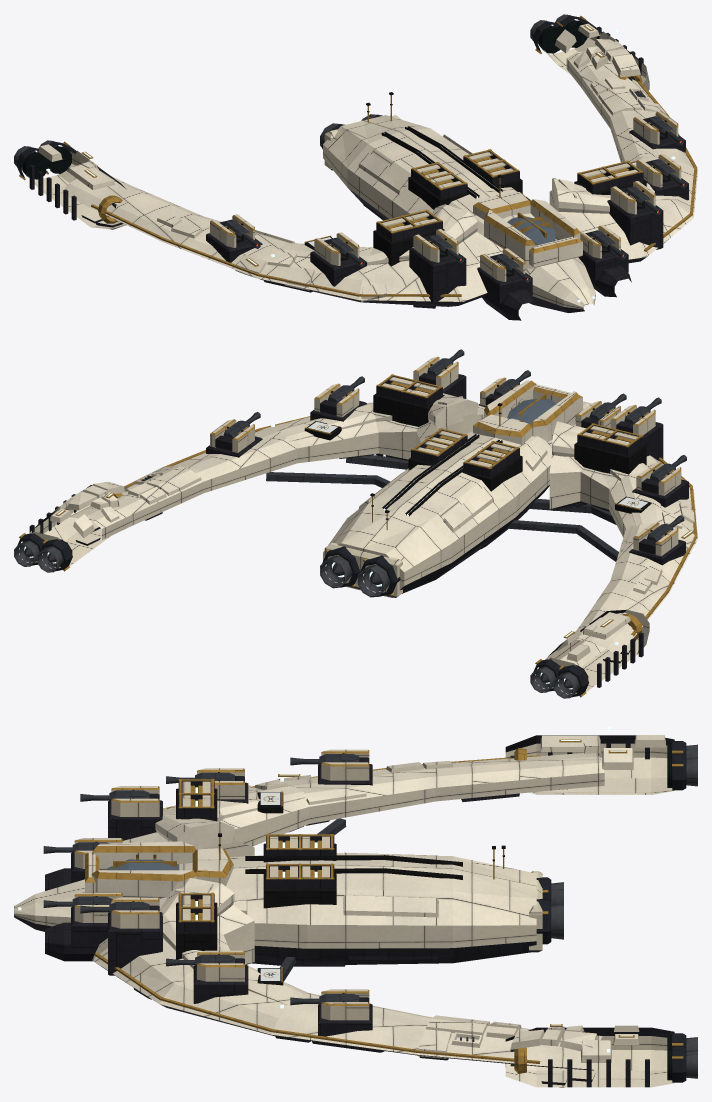
Rendered from europa-schiff5.glb.
3 renders of one model, top to bottom at view 1: azimuth 30°, elevation 25°; view 2: azimuth 150°, elevation 25°; view 3: azimuth 270°, elevation 25°, orthographic. The views are drawn at different scales.
Visible parts, largest first — view 1: Hull_LOD0; view 2: Hull_LOD0; view 3: Hull_LOD0, Laser_03, Laser_08, Laser_04.
Boxes of the visible parts, x1=… form: Hull_LOD0: x1=14, y1=14, x2=697, y2=320; Hull_LOD0: x1=14, y1=356, x2=697, y2=698; Hull_LOD0: x1=14, y1=727, x2=697, y2=1087; Laser_03: x1=80, y1=901, x2=149, y2=915; Laser_08: x1=290, y1=753, x2=359, y2=767; Laser_04: x1=80, y1=789, x2=149, y2=803.
Bounding box in the file's own units: 78.75 × 13.17 × 70.4.
6 materials, 4 textured.
